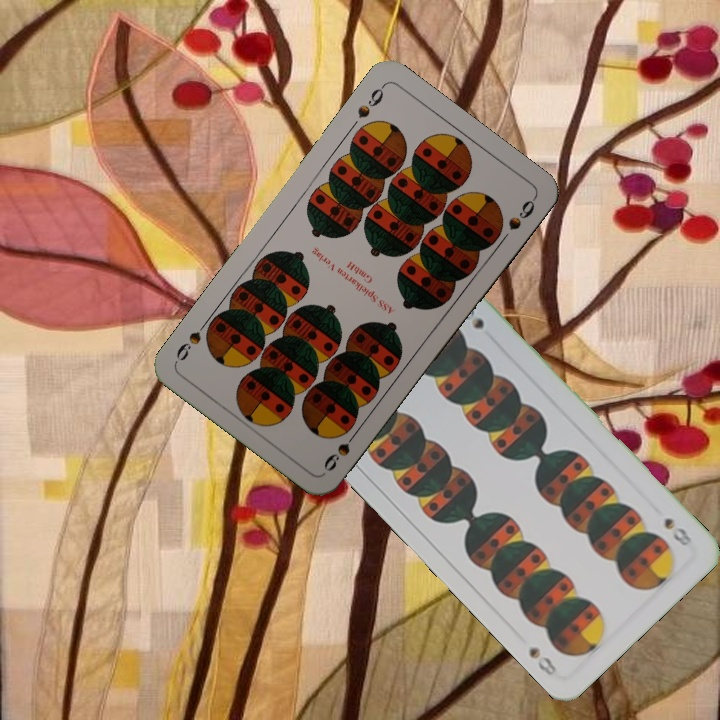S8: (660, 513, 695, 549)
S9: (319, 424, 362, 475), (353, 81, 388, 121)
